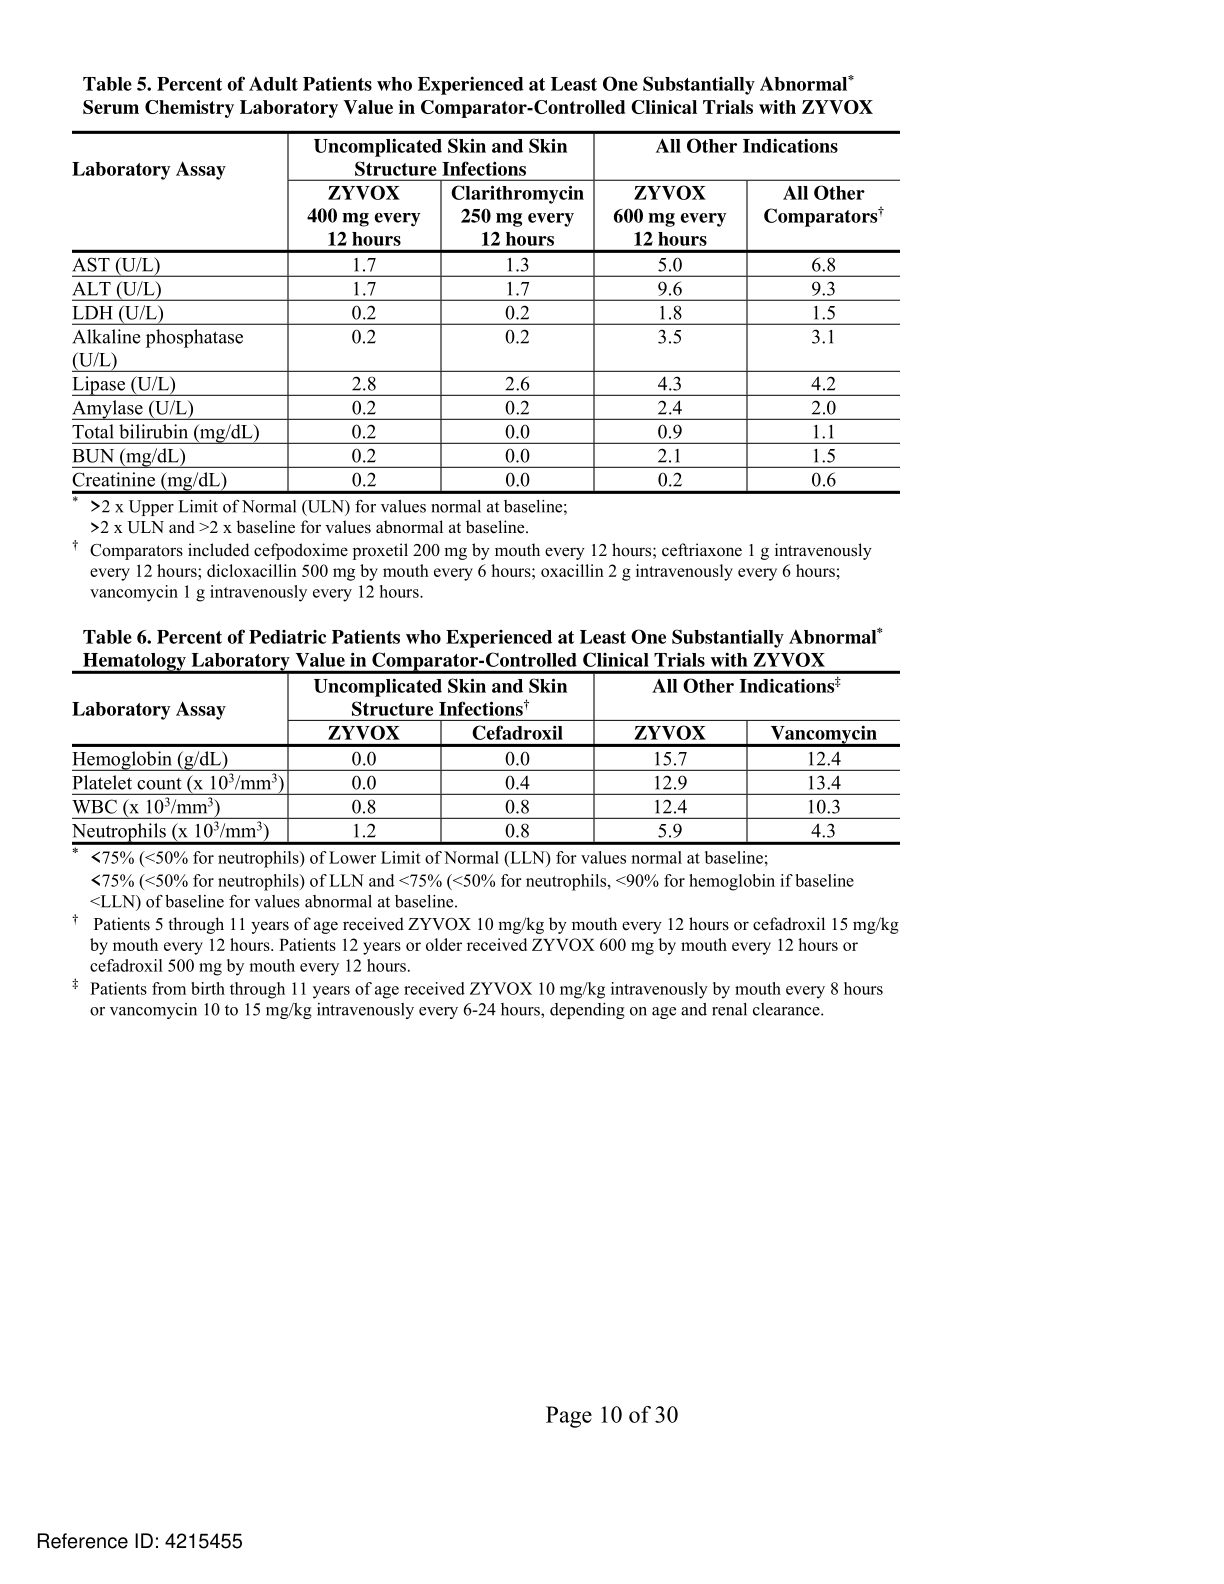partial_lined_merged_cells: (71, 129, 906, 498), (69, 669, 905, 846)
